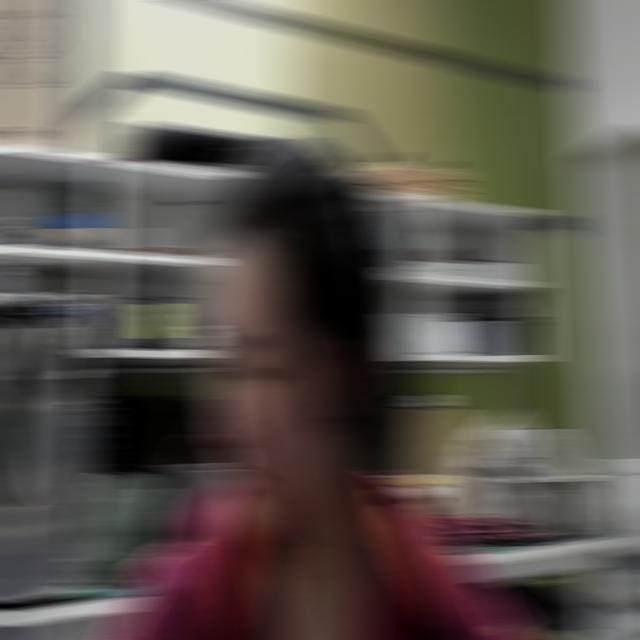Without Helmet: (186, 114, 447, 572)
